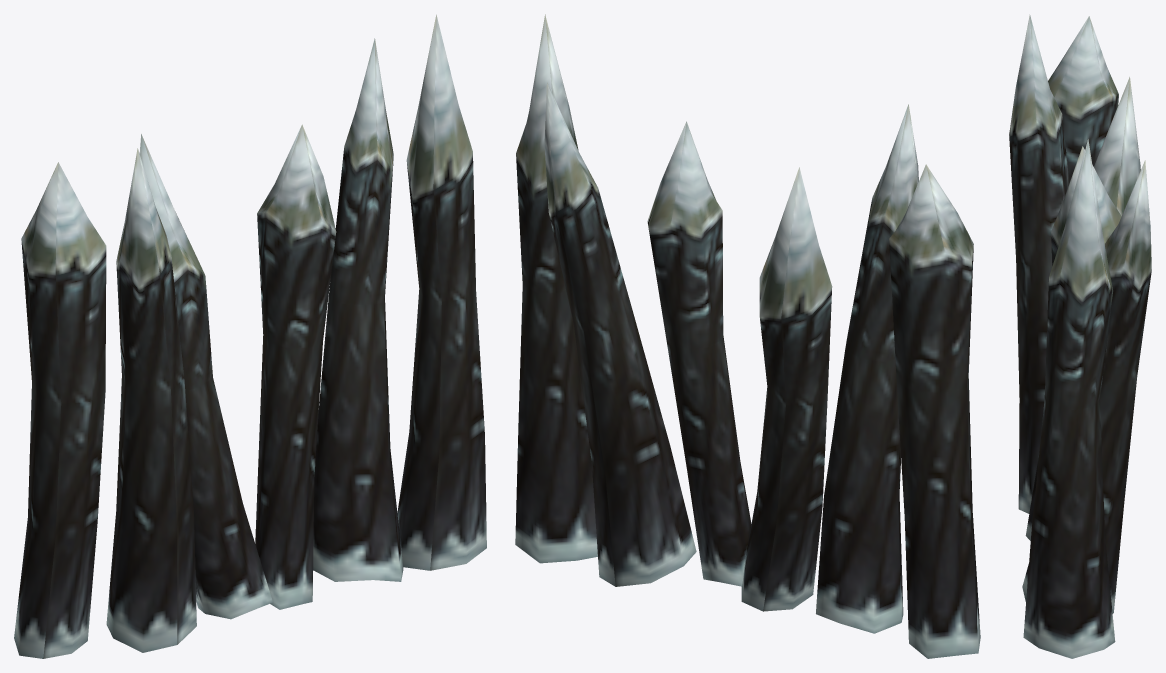
3 renders of one model, left to right at view 1: azimuth 30°, elevation 25°; view 2: azimuth 150°, elevation 25°; view 3: azimuth 270°, elevation 25°, orthographic. The views are drawn at different scales.
Visible parts, largest first — view 1: X_wj1; view 2: X_wj1; view 3: X_wj1.
Boxes of the visible parts, x1=… form: X_wj1: x1=14, y1=14, x2=486, y2=658; X_wj1: x1=515, y1=14, x2=980, y2=658; X_wj1: x1=1009, y1=14, x2=1151, y2=658.
Size of the model in its own units: 135 by 152 by 37.98.
Materials: 1 (1 with a texture image).
